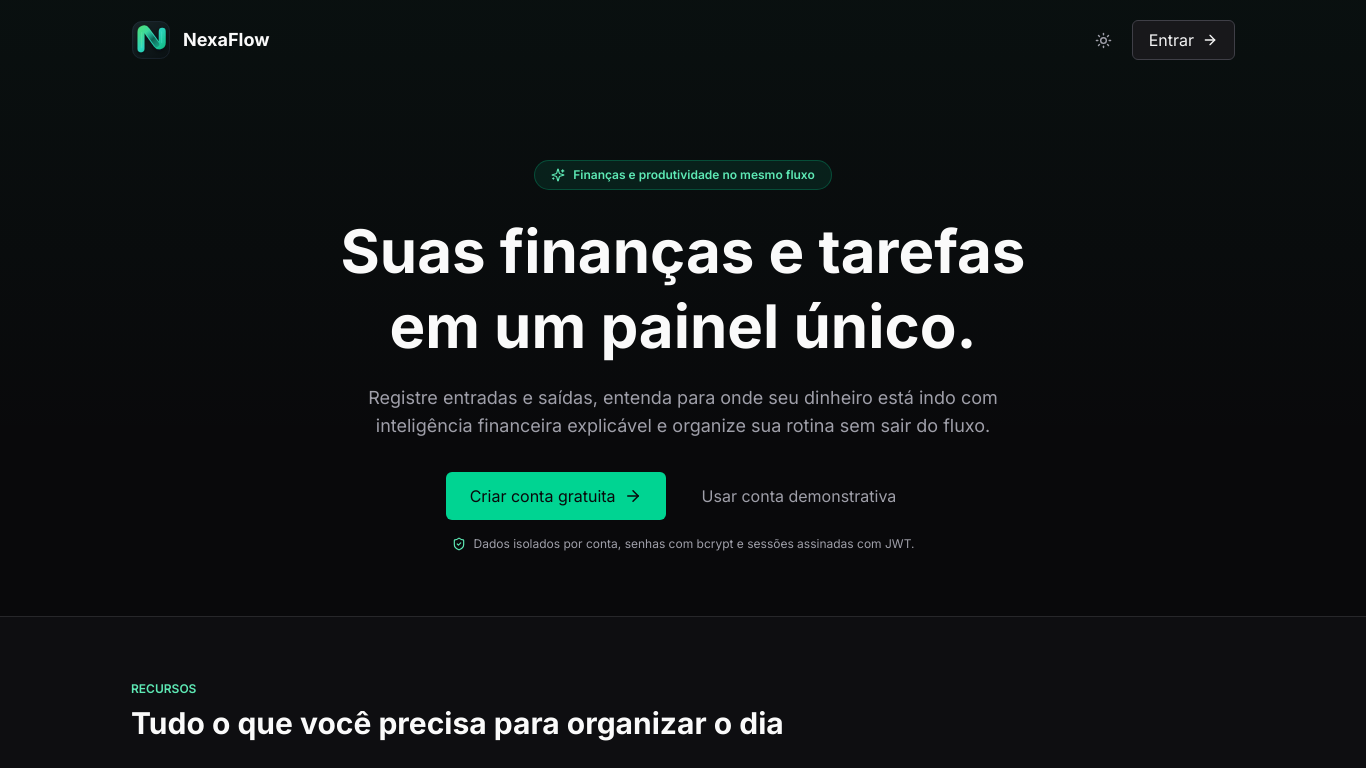
Test: NexaFlow › exibe a landing page na raiz e leva ao login
Expected: the heading "Suas finanças e tarefas em um painel único." is shown, [299,214,1067,364]
Click the button "Criar conta gratuita".
click(556, 496)  # box [446,472,666,520]
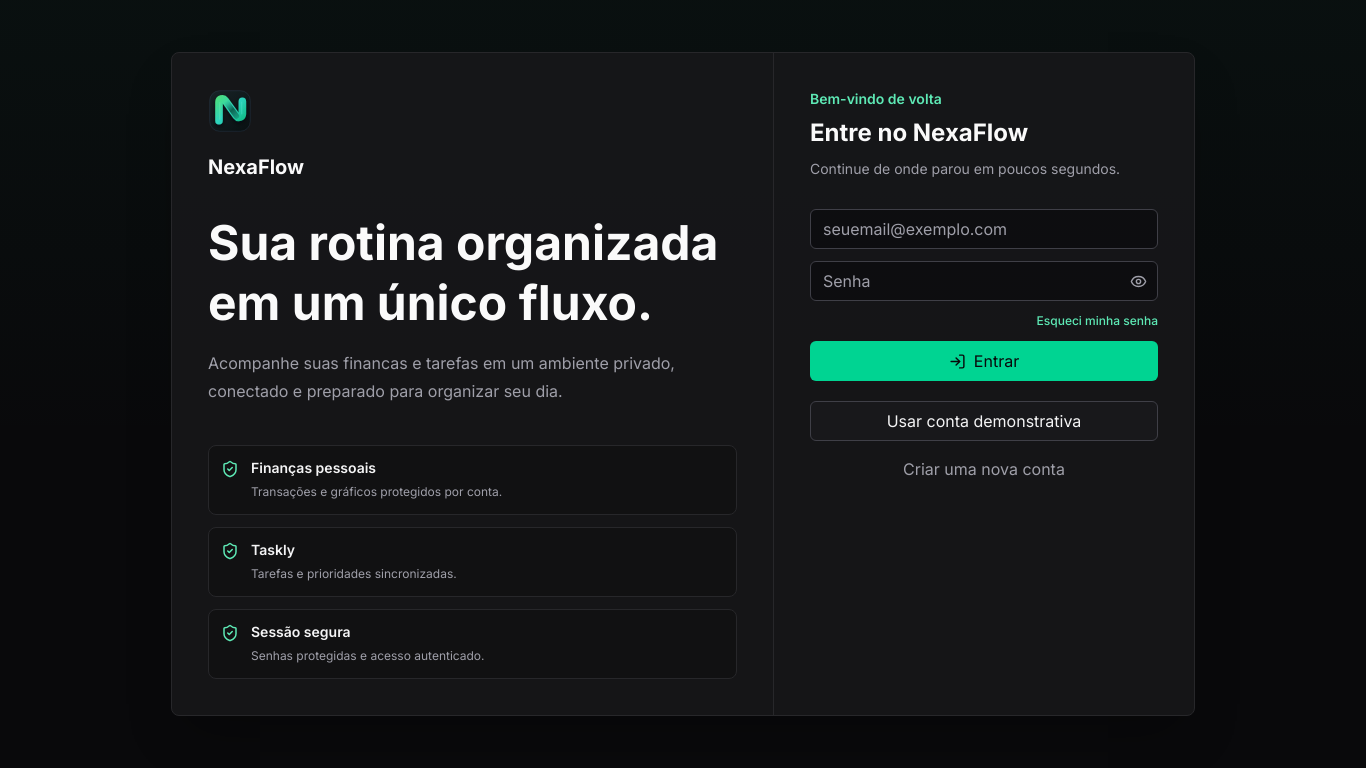
Result: the heading "Entre no NexaFlow" is shown at [810,118,1028,147]
